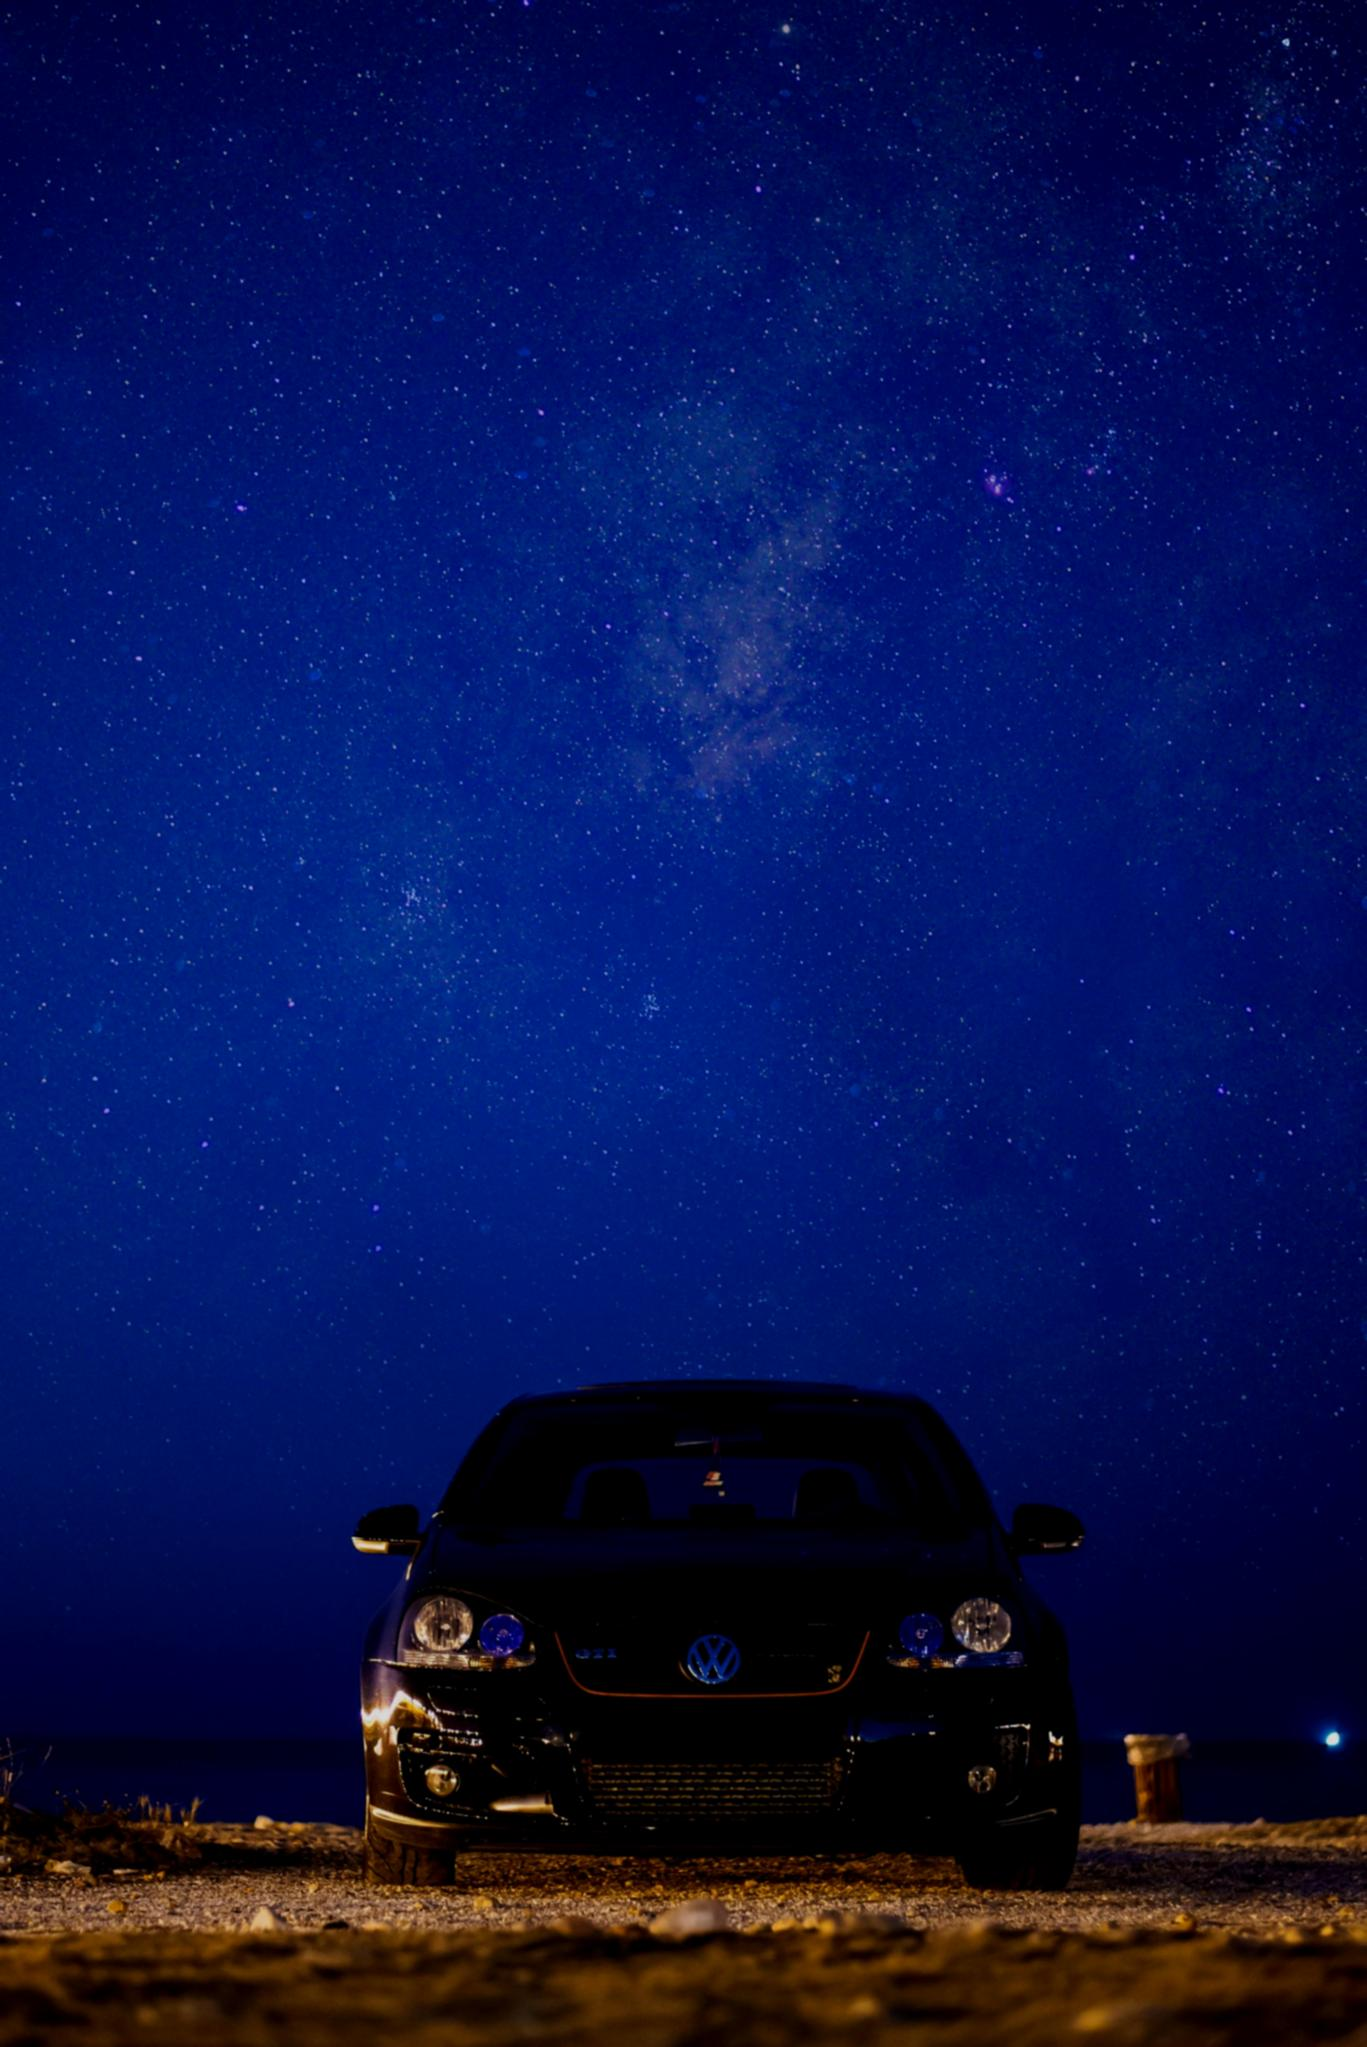Volkswagen: (667, 1618, 758, 1704)
